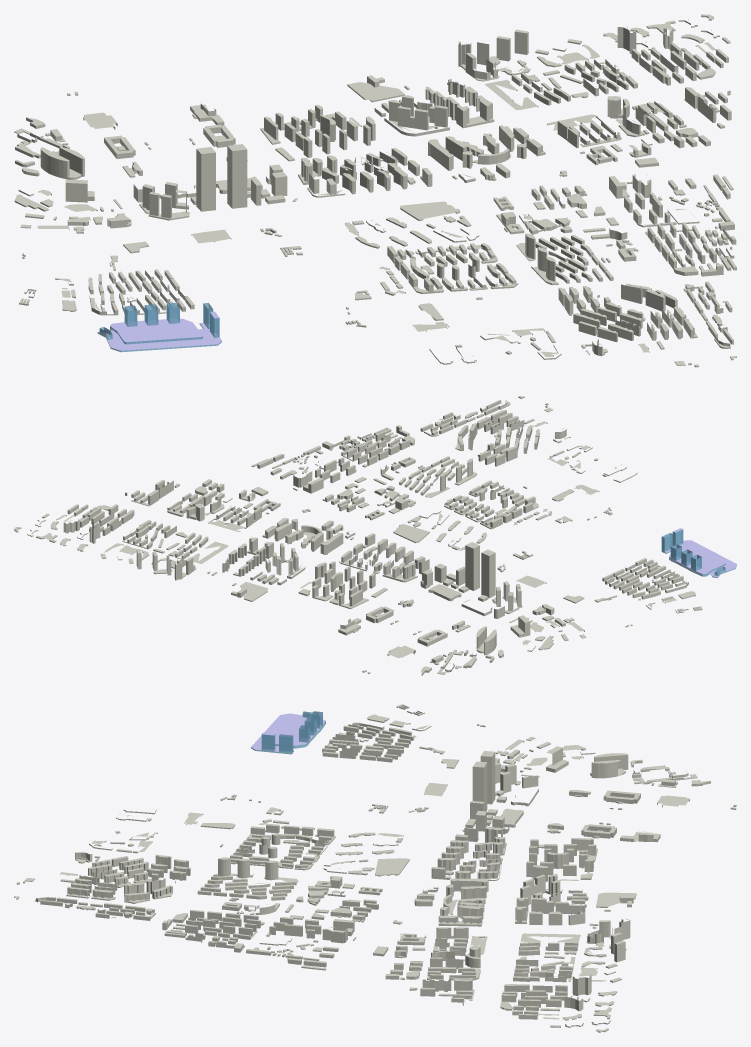
Rendered from kb_lbs.gltf.
3 renders of one model, top to bottom at view 1: azimuth 30°, elevation 25°; view 2: azimuth 150°, elevation 25°; view 3: azimuth 270°, elevation 25°, orthographic. The views are drawn at different scales.
Visible parts, largest first — view 1: Mesh435 Group1 Model, Mesh434 Group1 Model, Mesh88 Group1 Model, Mesh444 Group1 Model, Mesh447 Group1 Model, Mesh530 Group1 Model, Mesh220 Group1 Model, Mesh548 Group1 Model, Mesh330 Group1 Model, Mesh491 Group1 Model, Mesh222 Group1 Model, Mesh92 Group1 Model (+5 smaller); view 2: Mesh435 Group1 Model, Mesh434 Group1 Model, Mesh444 Group1 Model, Mesh447 Group1 Model, Mesh67 Group1 Model, Mesh530 Group1 Model; view 3: Mesh435 Group1 Model, Mesh434 Group1 Model, Mesh530 Group1 Model, Mesh444 Group1 Model, Mesh88 Group1 Model, Mesh220 Group1 Model, Mesh182 Group1 Model, Mesh447 Group1 Model.
Boxes of the visible parts, x1,y1,x2,y2 form: Mesh435 Group1 Model: (110, 302, 202, 344); Mesh434 Group1 Model: (97, 302, 221, 352); Mesh88 Group1 Model: (384, 100, 449, 136); Mesh444 Group1 Model: (227, 144, 247, 208); Mesh447 Group1 Model: (196, 147, 215, 211); Mesh530 Group1 Model: (40, 147, 84, 179); Mesh220 Group1 Model: (465, 53, 530, 81); Mesh548 Group1 Model: (148, 190, 189, 220); Mesh330 Group1 Model: (400, 201, 460, 221); Mesh491 Group1 Model: (347, 82, 404, 102); Mesh222 Group1 Model: (477, 36, 510, 65); Mesh92 Group1 Model: (456, 100, 494, 128); Mesh435 Group1 Model: (669, 544, 725, 576); Mesh434 Group1 Model: (661, 528, 736, 577); Mesh444 Group1 Model: (465, 542, 479, 590); Mesh447 Group1 Model: (481, 549, 495, 598); Mesh67 Group1 Model: (382, 562, 417, 582); Mesh530 Group1 Model: (476, 626, 496, 655); Mesh435 Group1 Model: (274, 711, 325, 748); Mesh434 Group1 Model: (251, 711, 318, 754); Mesh530 Group1 Model: (590, 753, 628, 778); Mesh444 Group1 Model: (472, 761, 487, 811); Mesh88 Group1 Model: (520, 873, 562, 904); Mesh220 Group1 Model: (584, 920, 610, 957); Mesh182 Group1 Model: (213, 857, 253, 878); Mesh447 Group1 Model: (480, 751, 495, 804).
Bounding box in the file's own units: 118322 × 8000 × 110352.
